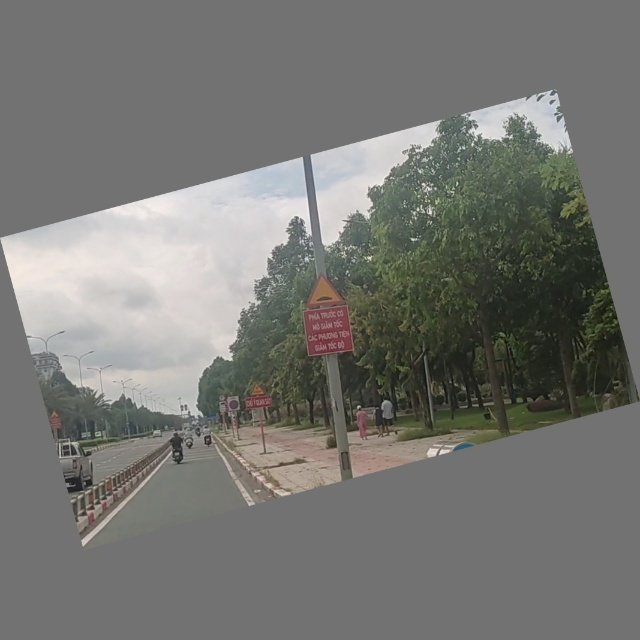W.221b: (297, 267, 349, 314)
W.245a: (247, 380, 268, 399)
